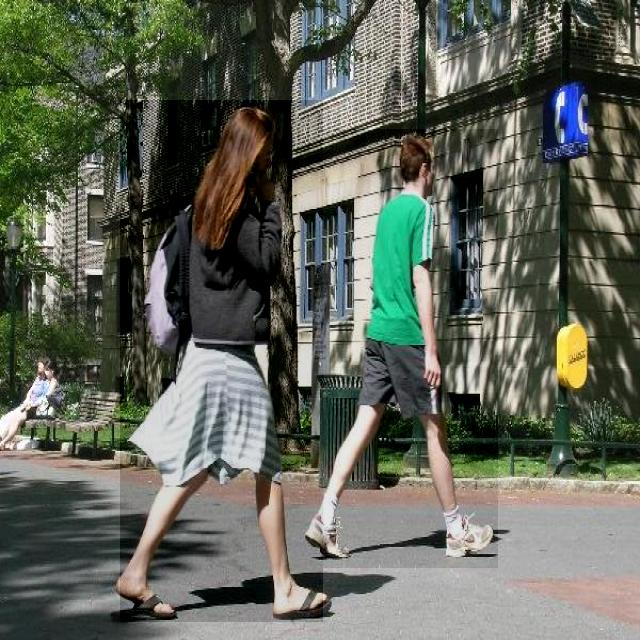with scooter: (120, 100, 323, 622), (305, 129, 498, 568), (21, 349, 46, 404), (43, 356, 61, 418)
